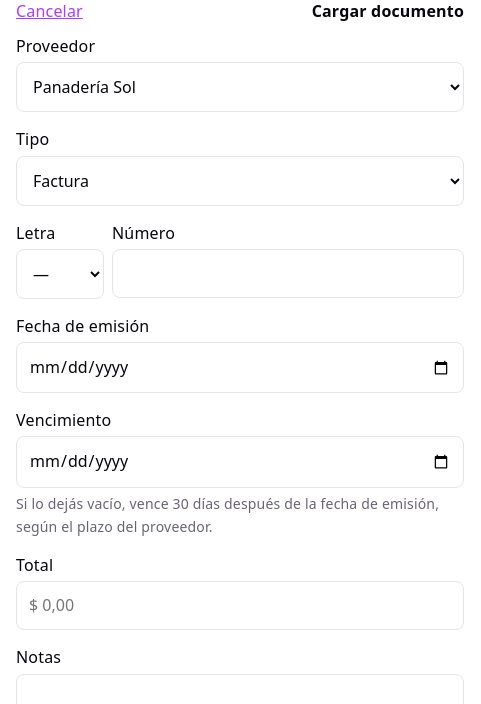
Test: DocumentForm › warns on 409 duplicate_suspected with link to existing document, clears on edit, and saves on Guardar igual
Type "2026-11-10" into the date field labelled "Fecha de emisión" at coordinates (240, 368), box [16,342,464,393]
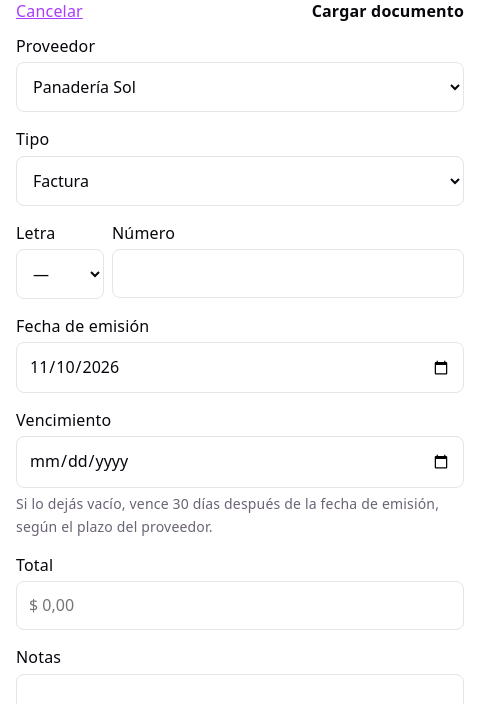
Type "15000" into the field labelled "Total" at coordinates (240, 606), box [16,581,464,630]
(page scrolled)
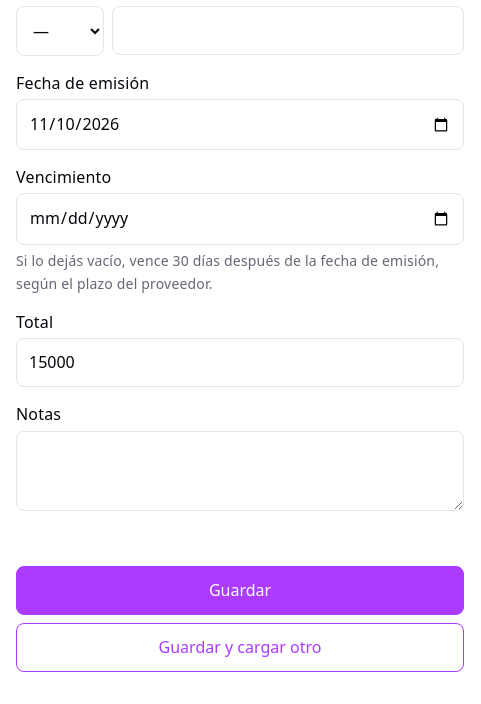
Click the button "Guardar" at coordinates (240, 590), box [16,566,464,615]
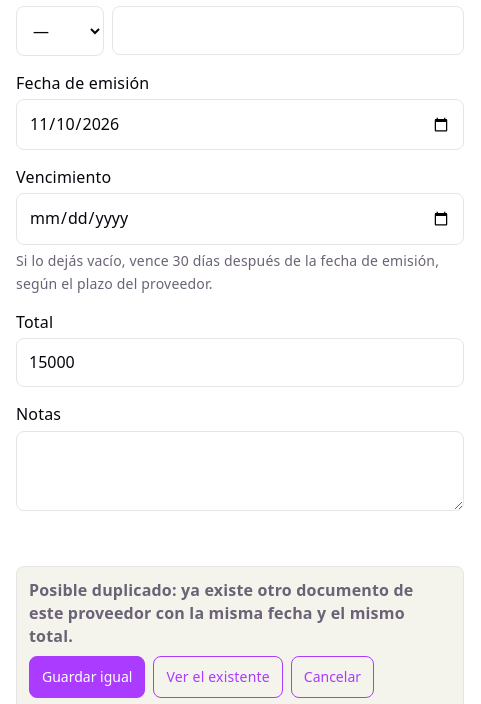
Result: the button "Guardar igual" is shown at [29,656,145,698]
# Editing a field clears the warning
Type "otro" into the text box labelled "Notas" at coordinates (240, 471), box [16,431,464,511]
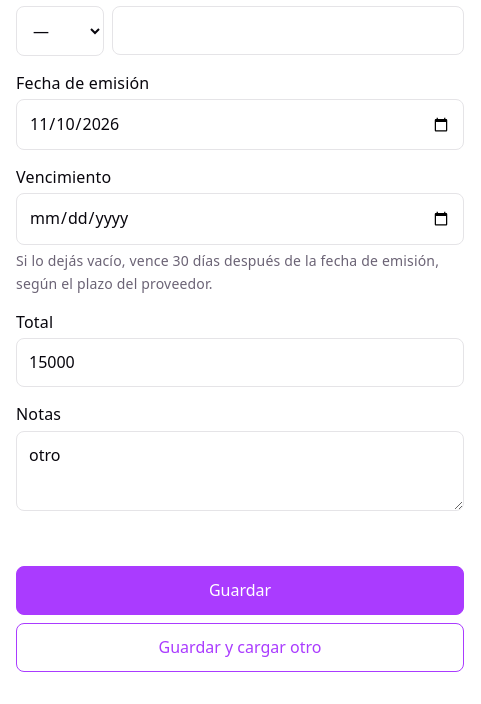
Result: the button "Guardar igual" is gone
Click the button "Guardar" at coordinates (240, 590), box [16,566,464,615]
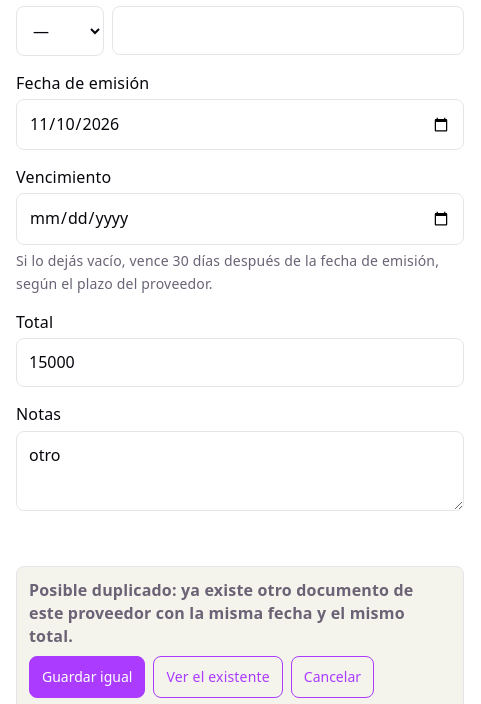
Click the button "Guardar igual" at coordinates (87, 677), box [29,656,145,698]
(page scrolled)
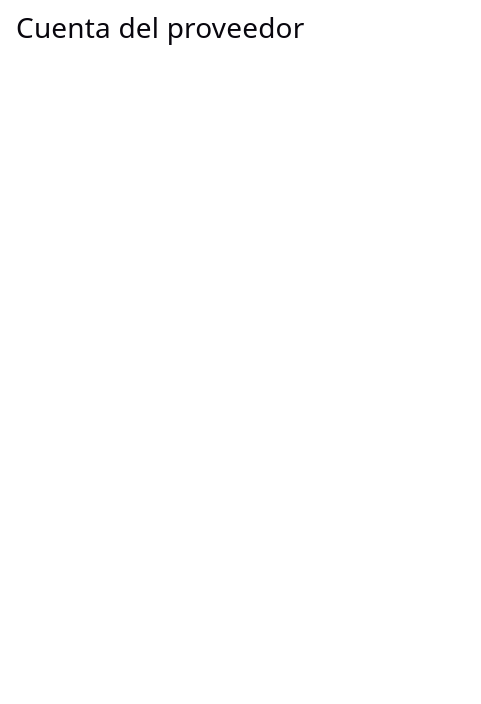
Result: the heading "Cuenta del proveedor" is shown at [16,8,304,46]
